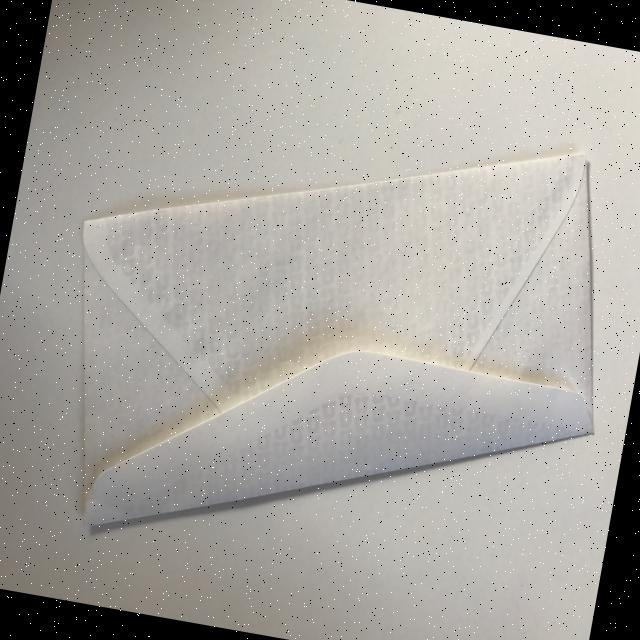paper: (30, 66, 640, 611)
